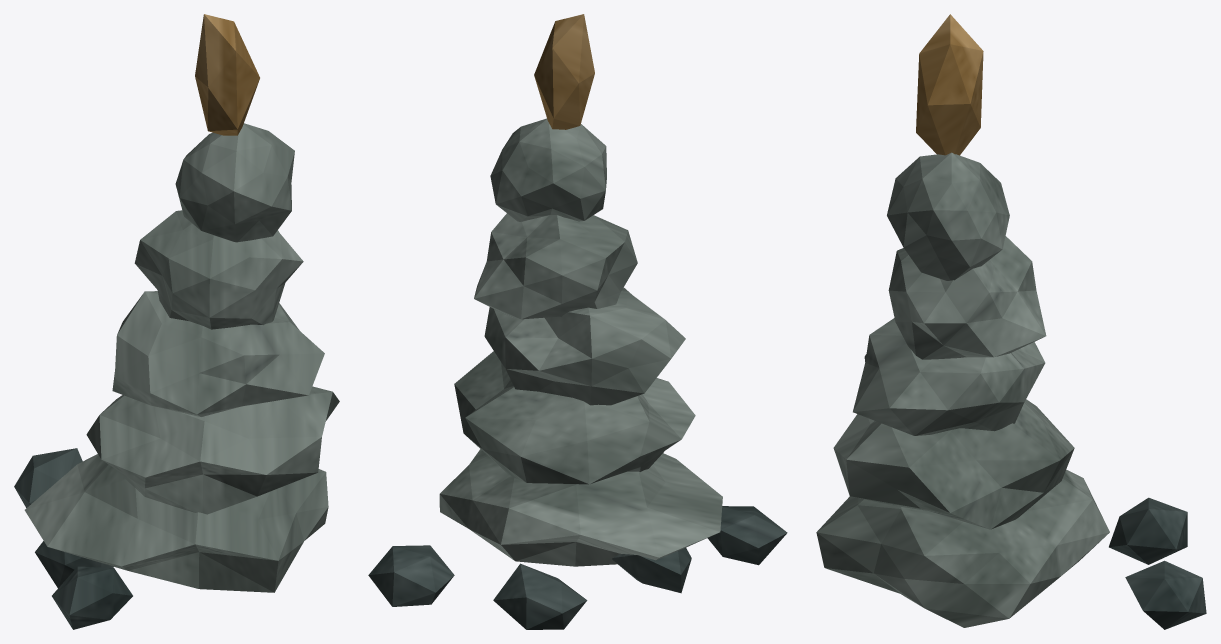
Rendered from 0605_cairn_05.glb.
3 renders of one model, left to right at view 1: azimuth 30°, elevation 25°; view 2: azimuth 150°, elevation 25°; view 3: azimuth 270°, elevation 25°, orthographic. The views are drawn at different scales.
Parts seen in each view (by area): view 1: stone, stone_dark, brass; view 2: stone, stone_dark, brass; view 3: stone, stone_dark, brass.
Part boxes in pixels (box(x1,y1,x2,y2)): stone: box(24, 123, 339, 592); stone_dark: box(14, 448, 132, 629); brass: box(195, 14, 259, 135); stone: box(439, 118, 722, 566); stone_dark: box(368, 506, 787, 629); brass: box(534, 14, 594, 129); stone: box(816, 152, 1109, 627); stone_dark: box(1109, 497, 1206, 629); brass: box(916, 14, 983, 155).
Bounding box in the file's own units: 1.25 × 2.16 × 1.33.
3 materials, 3 textured.
